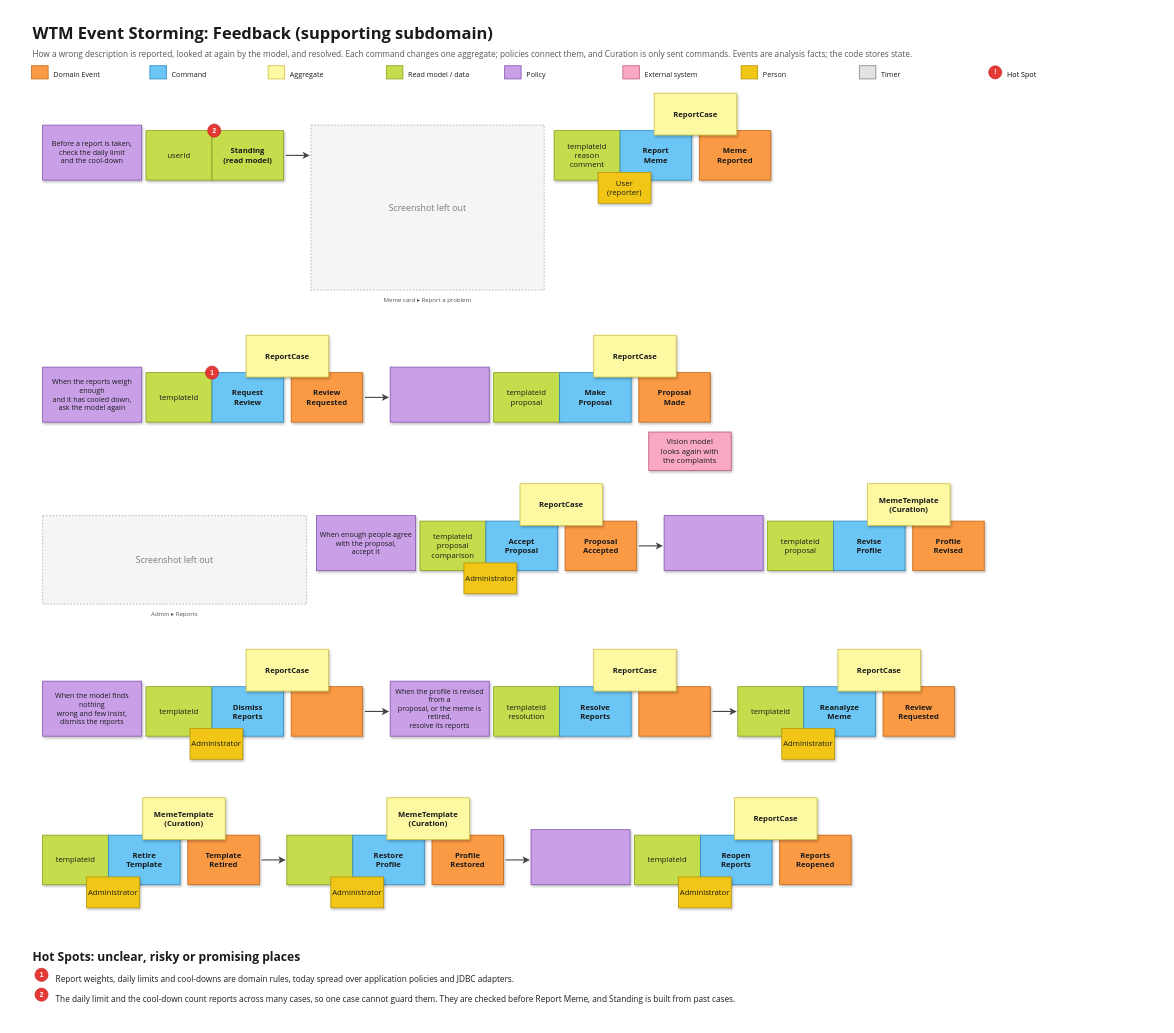
Some shapes in this 1174 by 1033 pixel diagram are drawn without their labels. The shapes that lost their labels are listed below. From the top down, each one's centre as x and y in pixels, then its label:
(x=440, y=395): When a review is requested, the model looks again
(x=714, y=544): When a proposal is accepted, revise the profile
(x=327, y=712): Reports Dismissed
(x=675, y=712): Reports Resolved
(x=320, y=860): templateId profile before
(x=580, y=858): When a profile applied by the rules is restored, reopen the reports
